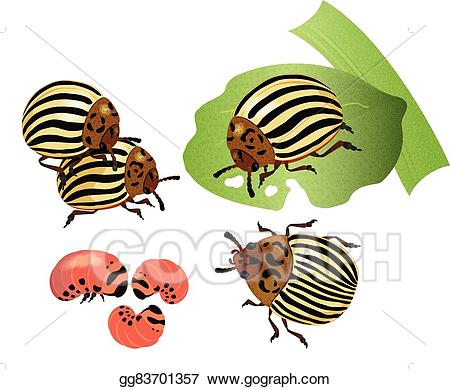hrosc: (230, 218, 365, 336), (225, 72, 354, 175), (9, 73, 129, 160)
